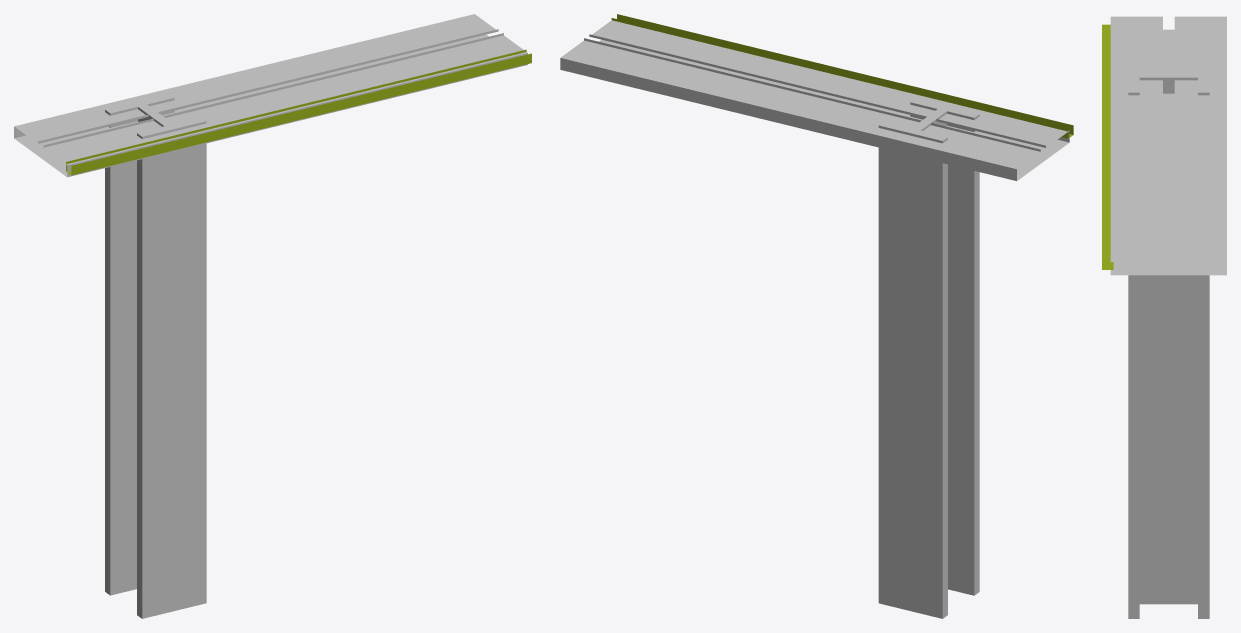
The model's file is cell_33.obj.
The picture shows the model from 3 angles, left to right: view 1: azimuth 30°, elevation 25°; view 2: azimuth 150°, elevation 25°; view 3: azimuth 270°, elevation 25°; orthographic projection. The views are drawn at different scales.
Bounding box in the file's own units: 1 × 1 × 0.215.
